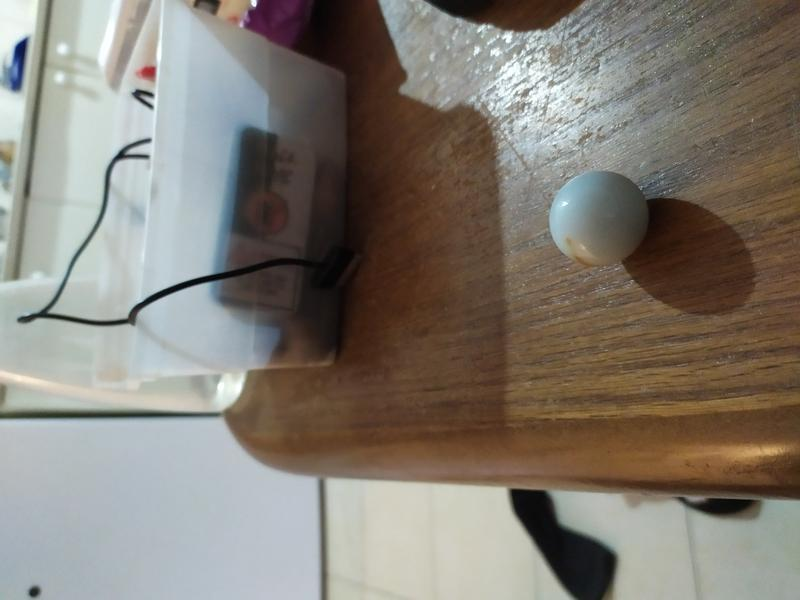Warning: (546, 166, 651, 270)
